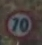limite 70: (3, 9, 35, 40)
